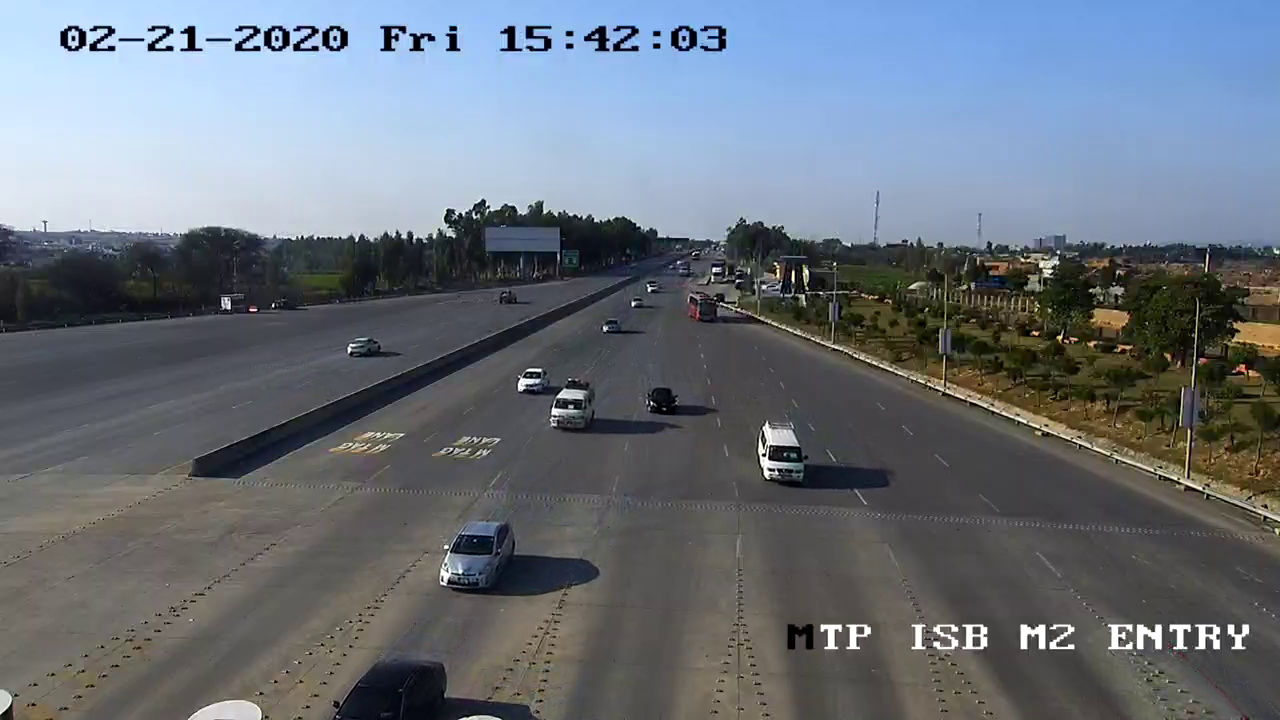f1: (429, 511, 520, 601), (752, 417, 815, 495), (509, 357, 551, 400), (635, 383, 685, 417)
f2: (543, 377, 608, 438)
